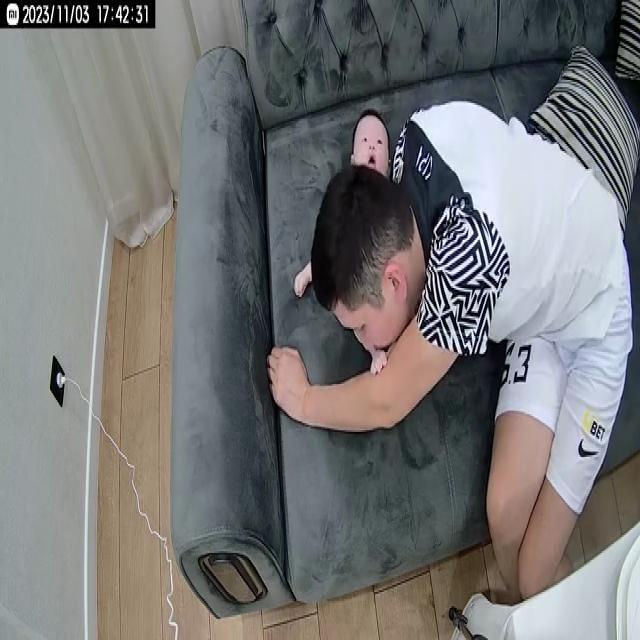baby: (293, 108, 413, 376)
